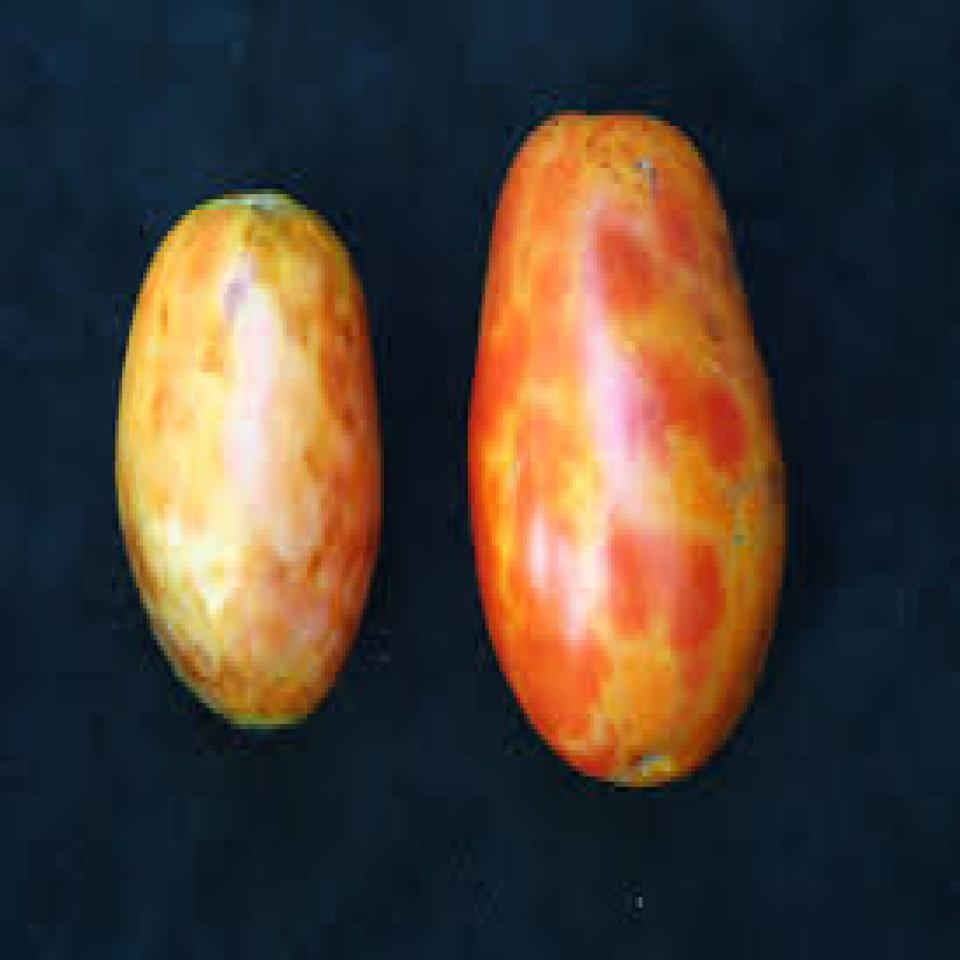Spotted wilt Virus: (468, 110, 789, 782), (119, 194, 377, 729)
